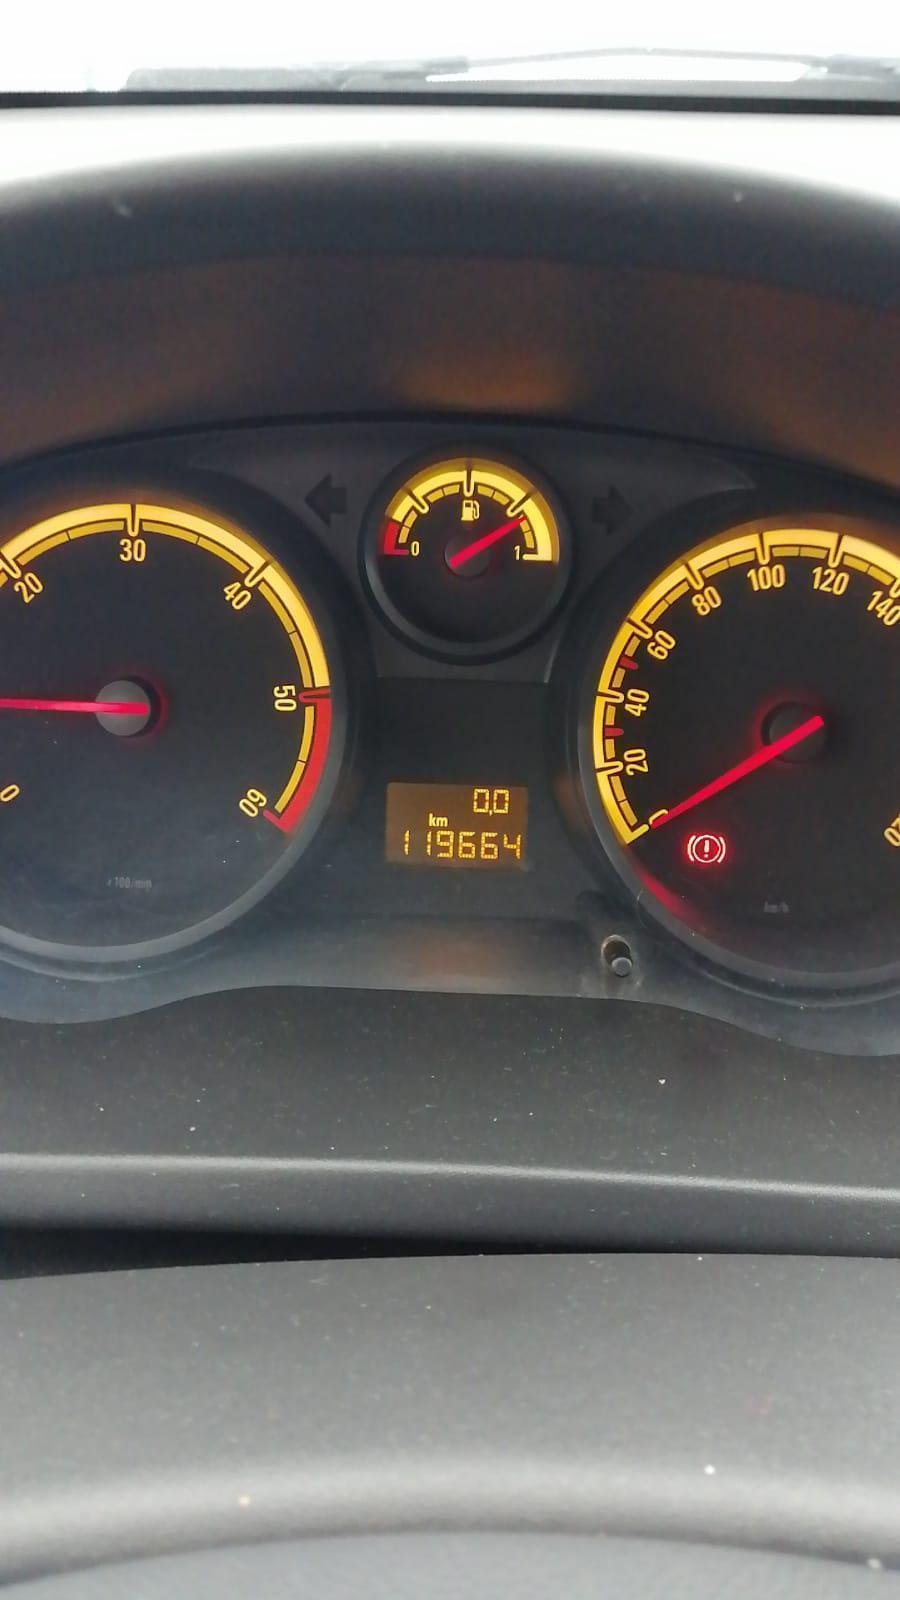,: (488, 809, 493, 816)
0: (473, 788, 490, 813), (492, 788, 509, 814)
1: (403, 829, 410, 856), (425, 830, 432, 856)
4: (502, 832, 521, 860)
6: (457, 830, 477, 859), (479, 831, 499, 860)
9: (435, 829, 454, 858)
X: (436, 815, 448, 827), (427, 812, 436, 826)
odometer: (381, 778, 531, 874)
